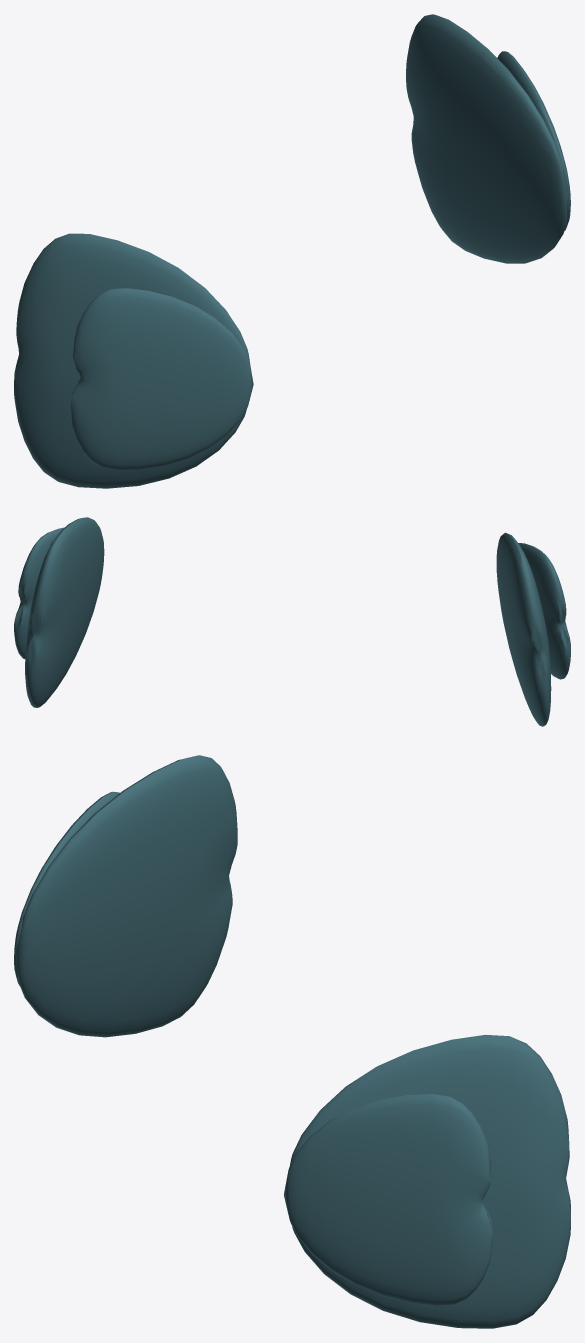
3 renders of one model, top to bottom at view 1: azimuth 30°, elevation 25°; view 2: azimuth 150°, elevation 25°; view 3: azimuth 270°, elevation 25°, orthographic. The views are drawn at different scales.
Visible parts, largest first — view 1: Sphere_2.003, Sphere.003; view 2: Sphere_2.003, Sphere.003; view 3: Sphere_2.003, Sphere.003.
Boxes of the visible parts, <box> form: Sphere_2.003: <box>14,14,567,488</box>; Sphere.003: <box>70,51,570,470</box>; Sphere_2.003: <box>25,517,551,726</box>; Sphere.003: <box>14,527,570,679</box>; Sphere_2.003: <box>16,755,570,1328</box>; Sphere.003: <box>14,791,492,1305</box>.
Bounding box in the file's own units: 128 × 86.74 × 47.99.
